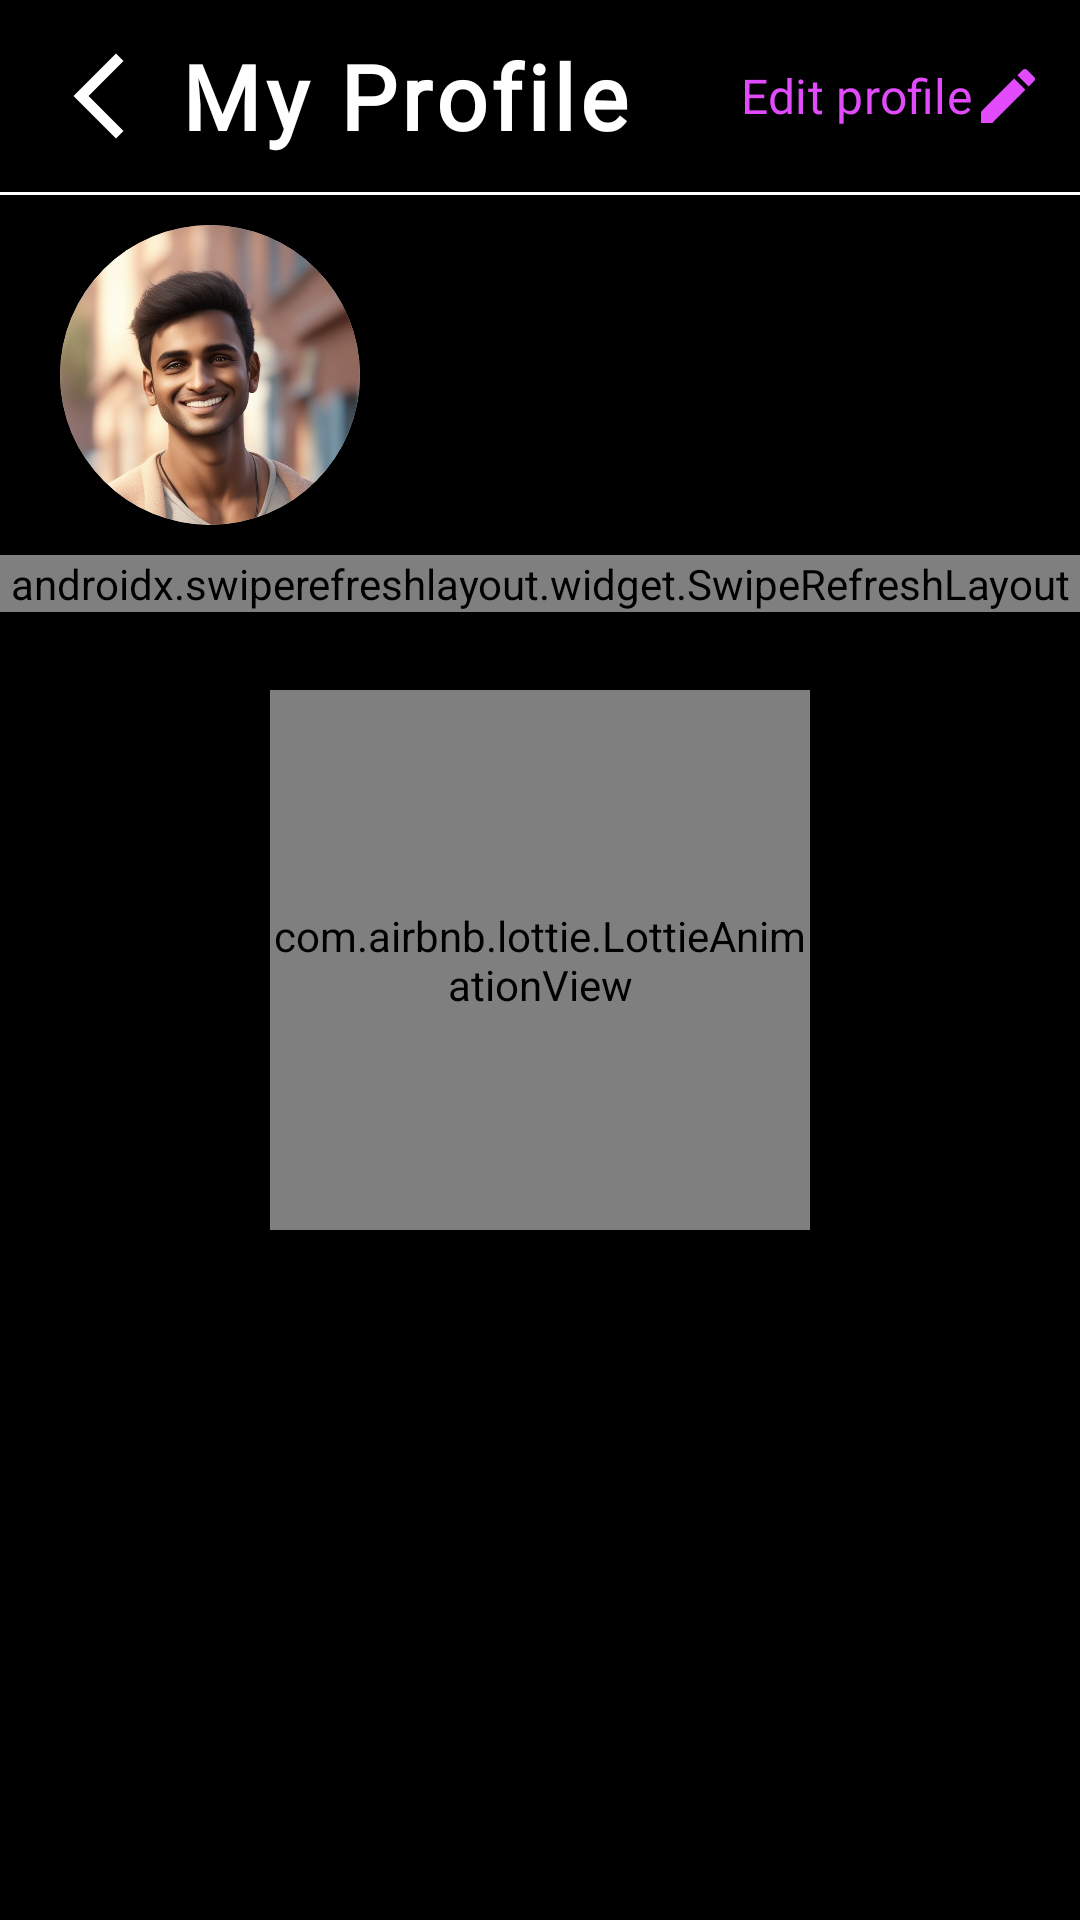

Point at icon controls on the screen. Image size 1080×1920, points as point (x, y).
back: point (98, 96)
male user: point (210, 375)
